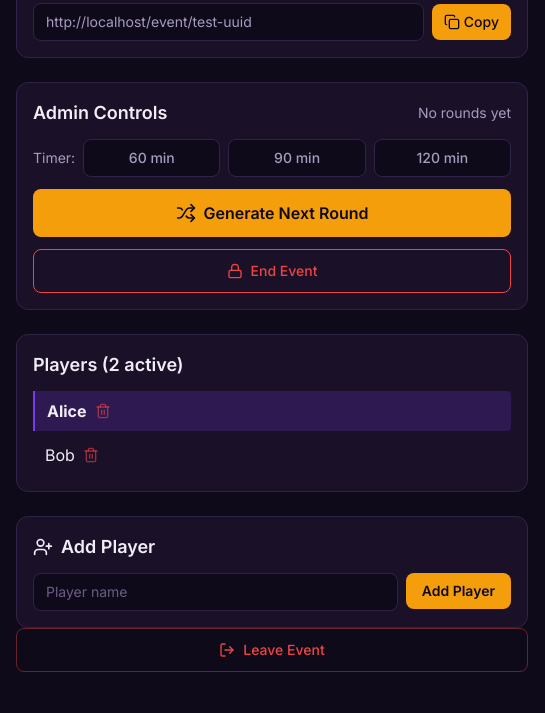
Test: Admin Add Player › shows error for duplicate player name
This screenshot has width=545, height=713.
(page scrolled)
Note: Type an existing name and submit
In the field with test id "add-player-name-input": (216, 592) [33,573,398,611], type "Alice"
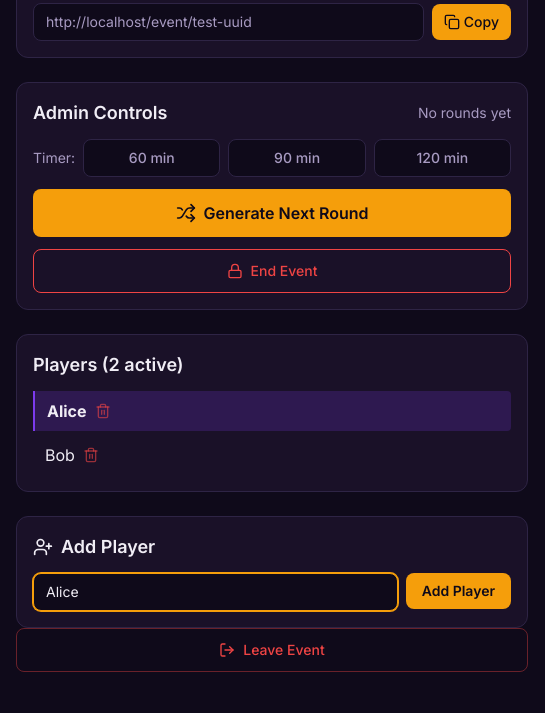
Click the button with test id "add-player-submit-btn": (459, 591) [406,573,511,609]
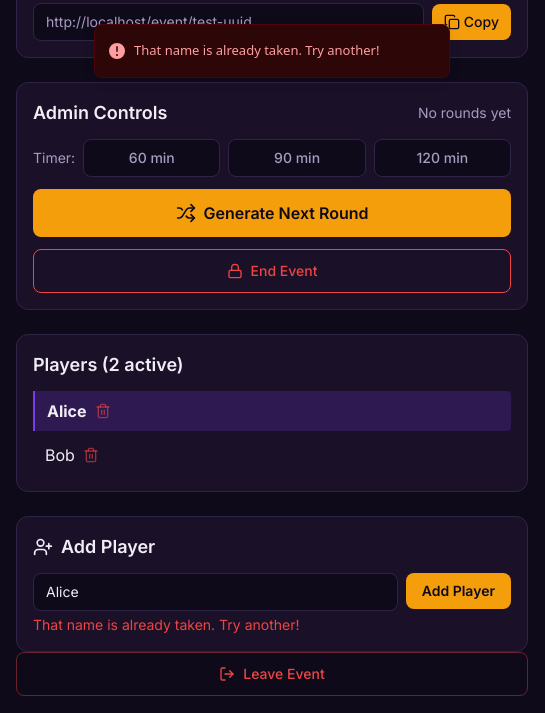
Result: the text with test id "add-player-error" is shown at [33,616,300,633]
Result: the text with test id "add-player-error" shows "already taken" at [33,616,299,633]
